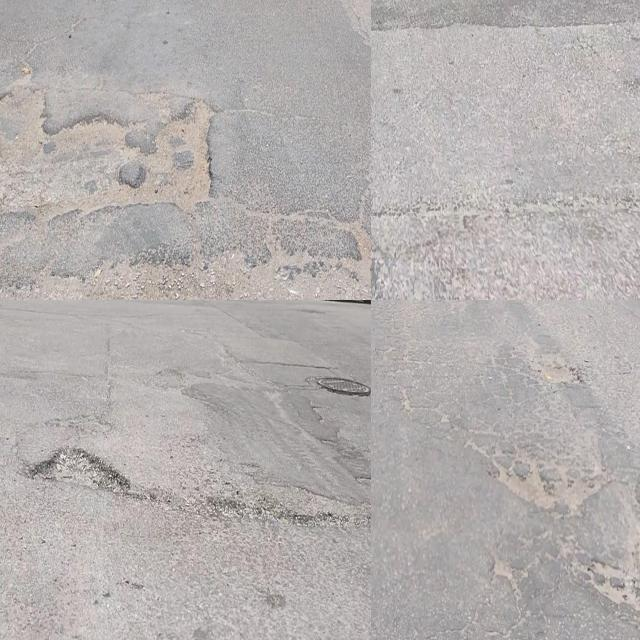Pothole: (34, 106, 142, 221), (123, 93, 222, 217), (491, 457, 609, 518), (29, 440, 131, 496), (580, 532, 640, 612), (541, 359, 585, 386)
